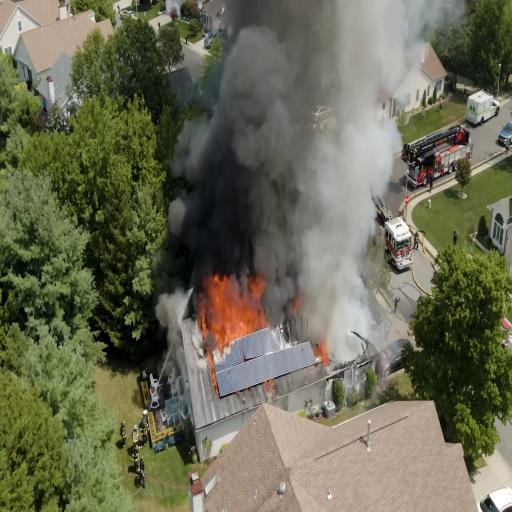fire: (195, 242, 276, 345)
smoke: (201, 25, 334, 241), (309, 101, 353, 320)
